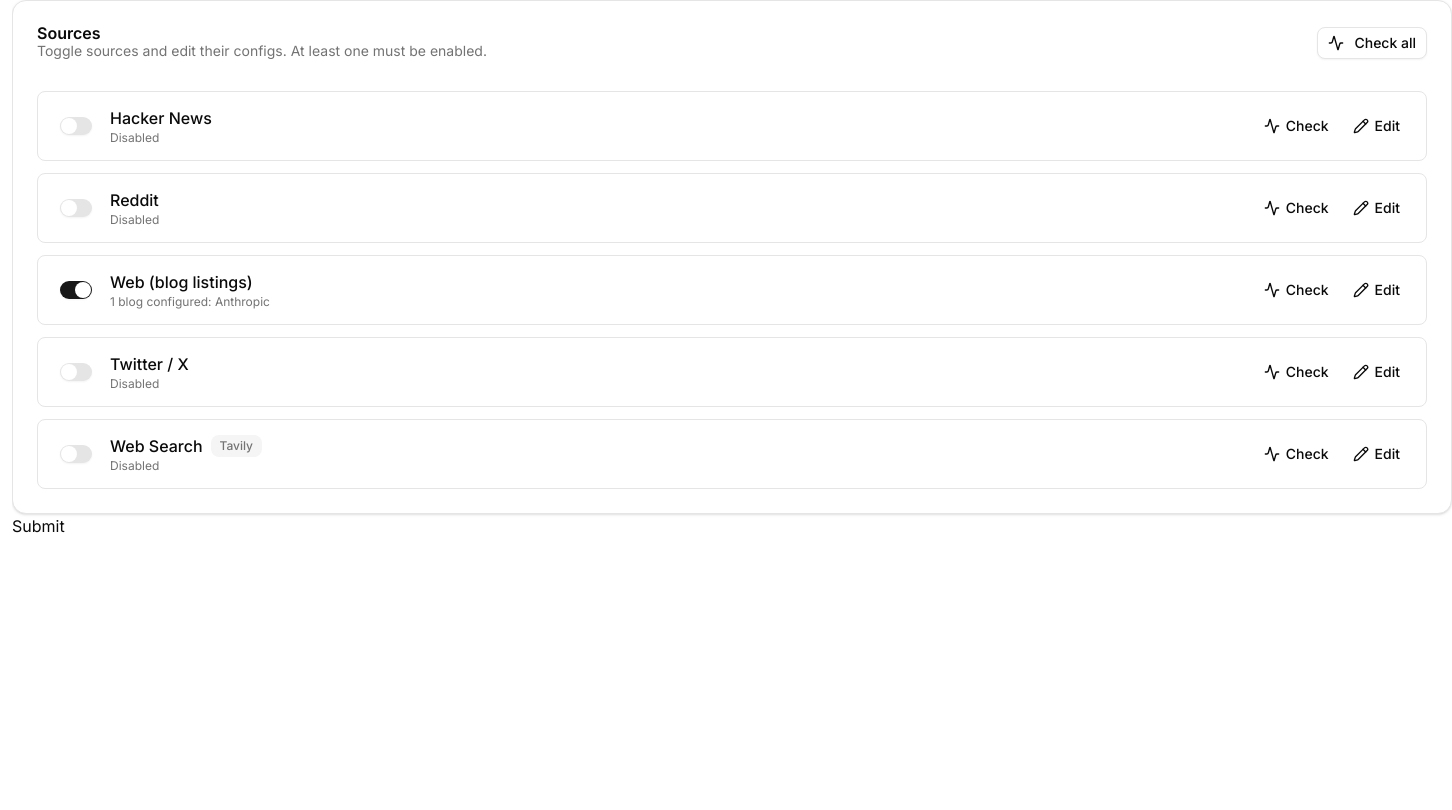
Test: WebEditPanel — per-source Name+URL row inputs › clicking 'Add source' appends a new empty row
The image size is (1452, 810).
Step 1. Click the button with aria-label "web (blog listings) edit" → (1376, 290), box top-left (1343, 268), bottom-right (1410, 312)
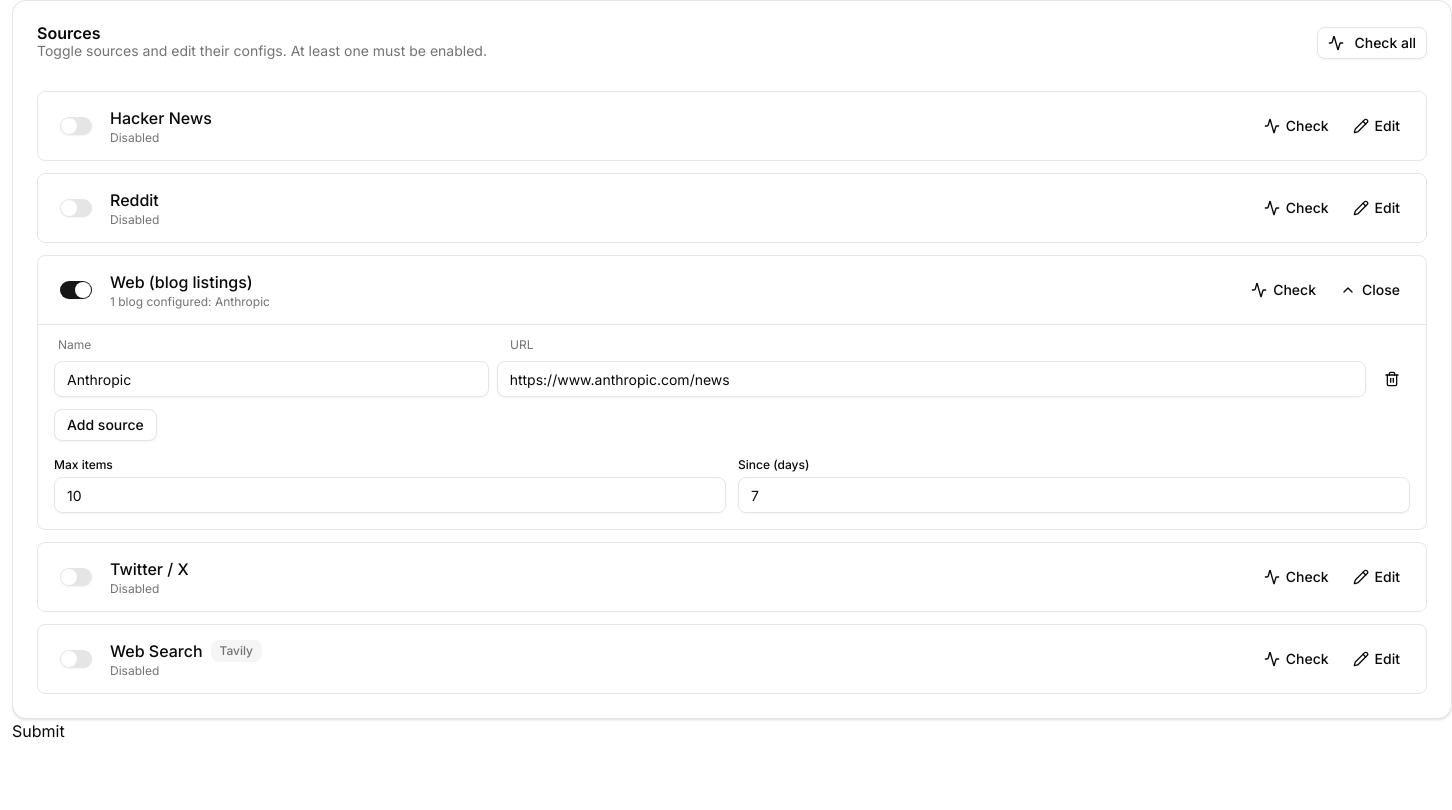
Check: the number of fields with placeholder "Anthropic" is 1, box top-left (54, 361), bottom-right (489, 397)
Step 2. Click the button "Add source" → (105, 425), box top-left (54, 409), bottom-right (157, 441)
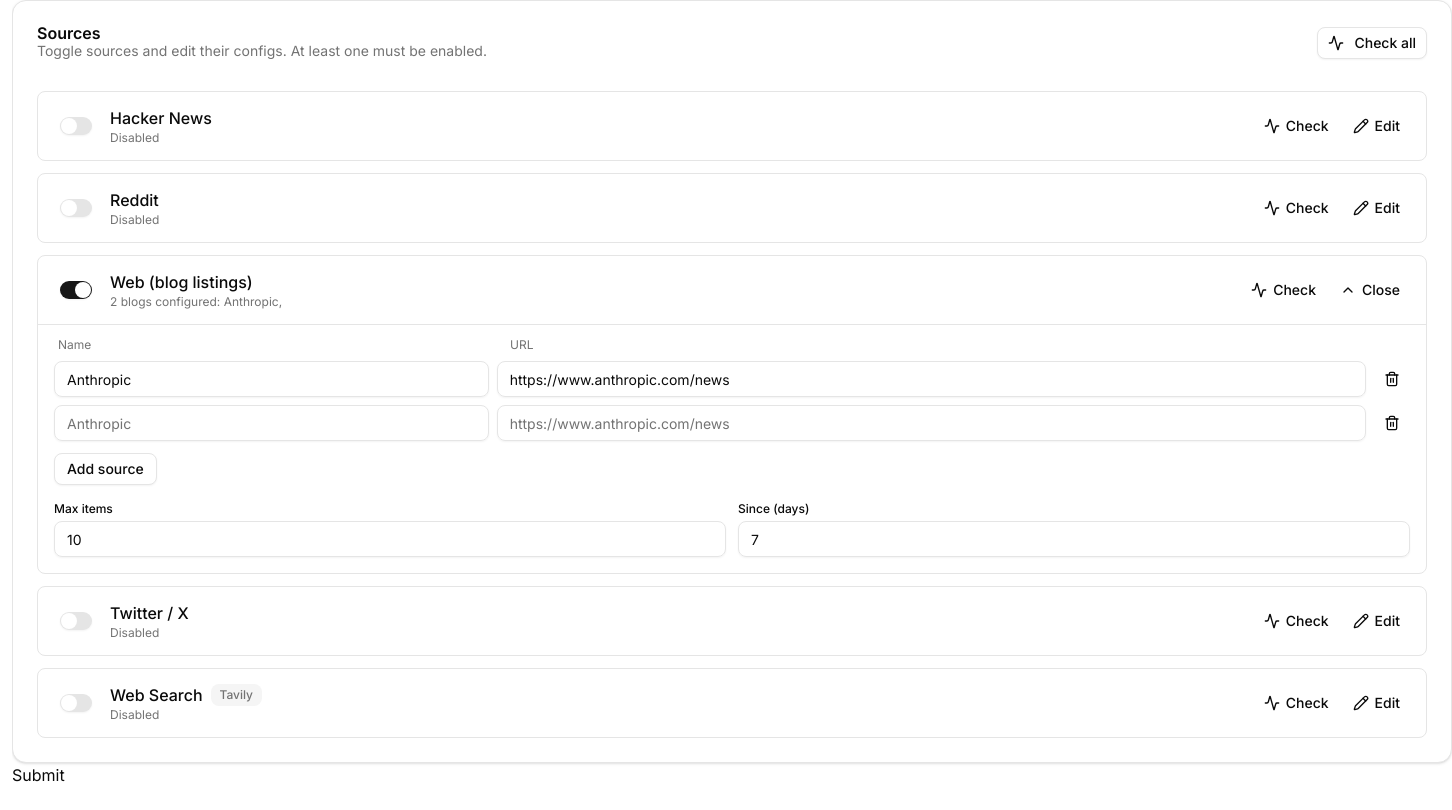
Check: the number of fields with placeholder "Anthropic" is 2, box top-left (54, 361), bottom-right (489, 397); top-left (54, 405), bottom-right (489, 441)
Check: the field with placeholder "Anthropic" is empty, box top-left (54, 405), bottom-right (489, 441)
